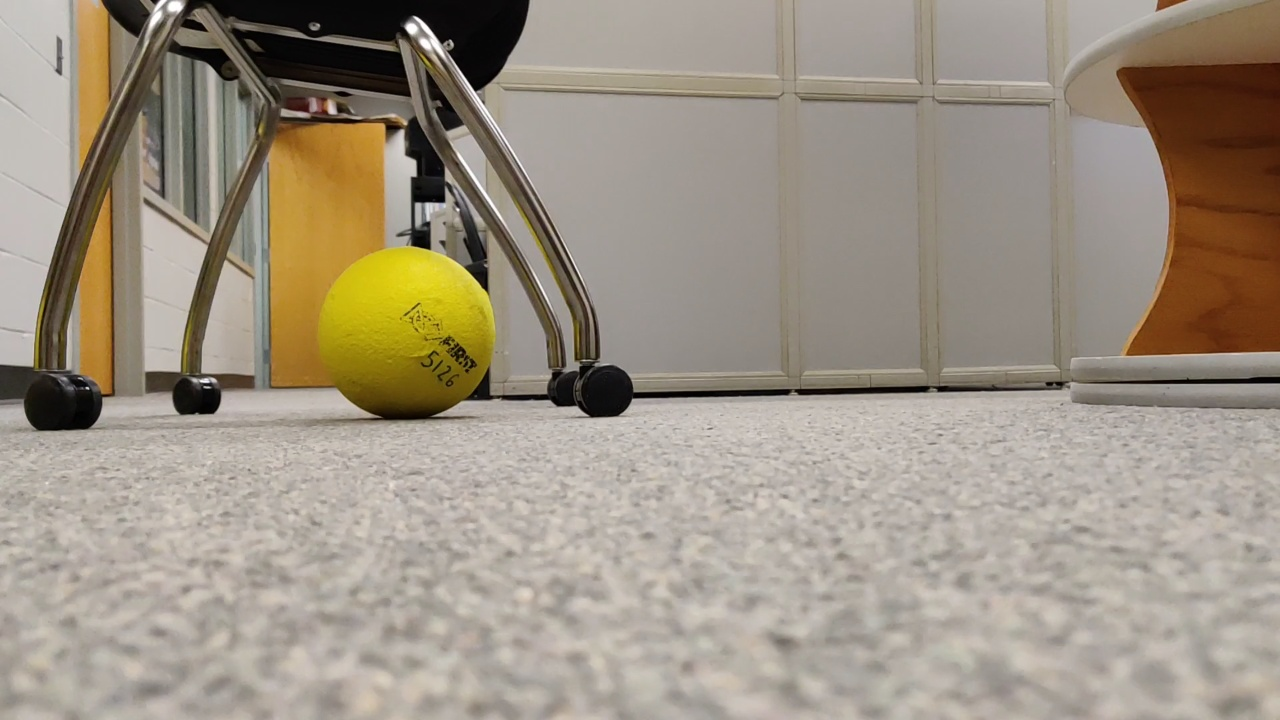Ball: (303, 236, 513, 428)
